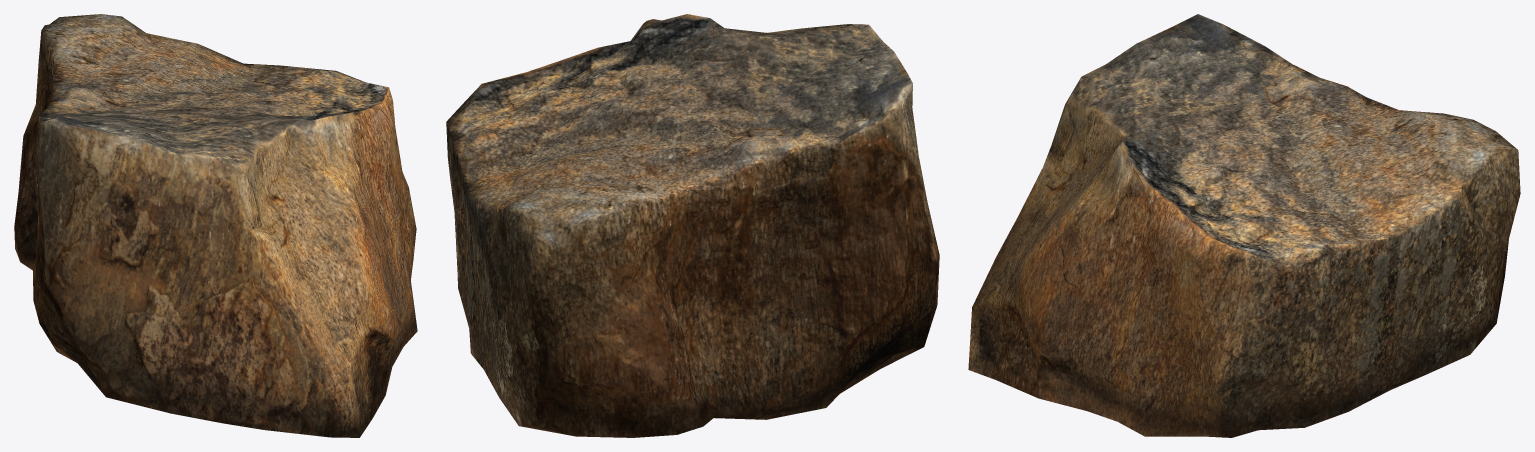
Rendered from mm7_deco_7rock01.glb.
3 renders of one model, left to right at view 1: azimuth 30°, elevation 25°; view 2: azimuth 150°, elevation 25°; view 3: azimuth 270°, elevation 25°, orthographic. The views are drawn at different scales.
Parts seen in each view (by area): view 1: Rock7_01; view 2: Rock7_01; view 3: Rock7_01.
Boxes of the visible parts, bbox=[...] form: Rock7_01: bbox=[14, 14, 417, 437]; Rock7_01: bbox=[446, 14, 939, 437]; Rock7_01: bbox=[968, 14, 1520, 437].
Size of the model in its own units: 1.74 by 1.22 by 2.21.
1 material, 1 textured.
